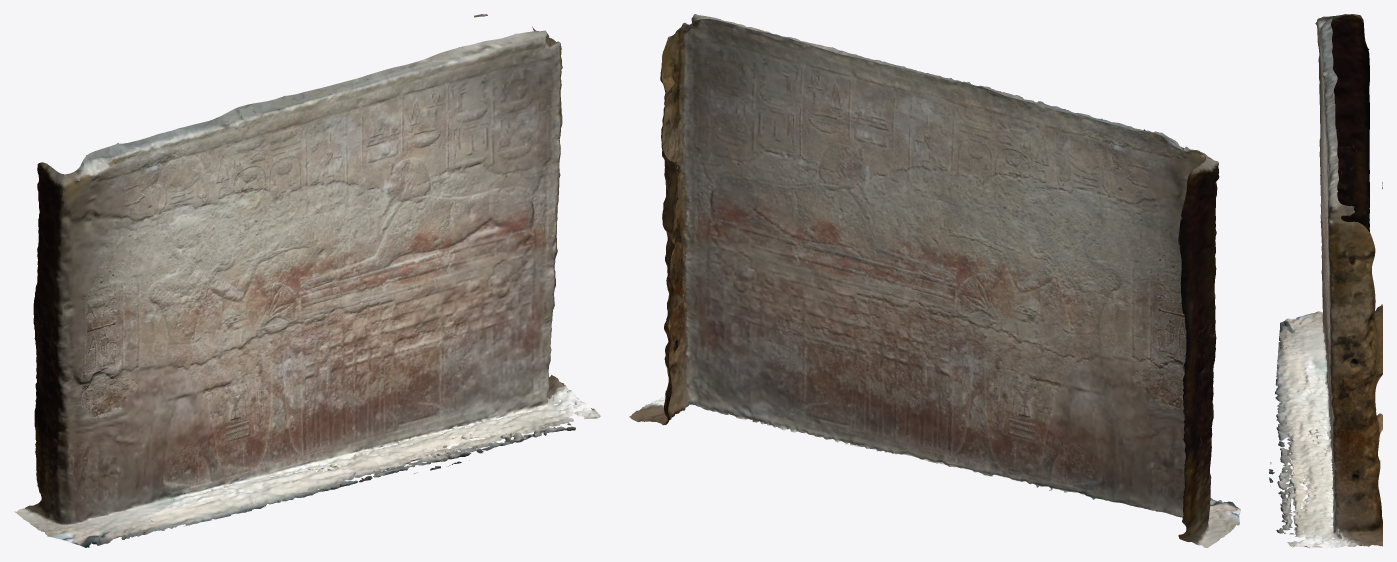
The model's file is preview.glb.
The picture shows the model from 3 angles, left to right: view 1: azimuth 30°, elevation 25°; view 2: azimuth 150°, elevation 25°; view 3: azimuth 270°, elevation 25°; orthographic projection. The views are drawn at different scales.
Visible parts, largest first — view 1: Object_2; view 2: Object_2; view 3: Object_2.
Boxes of the visible parts, x1=… form: Object_2: x1=14, y1=14, x2=600, y2=547; Object_2: x1=629, y1=14, x2=1240, y2=547; Object_2: x1=1269, y1=14, x2=1382, y2=547.
Bounding box in the file's own units: 1.72 × 1.15 × 0.3551.
1 material, 1 textured.
